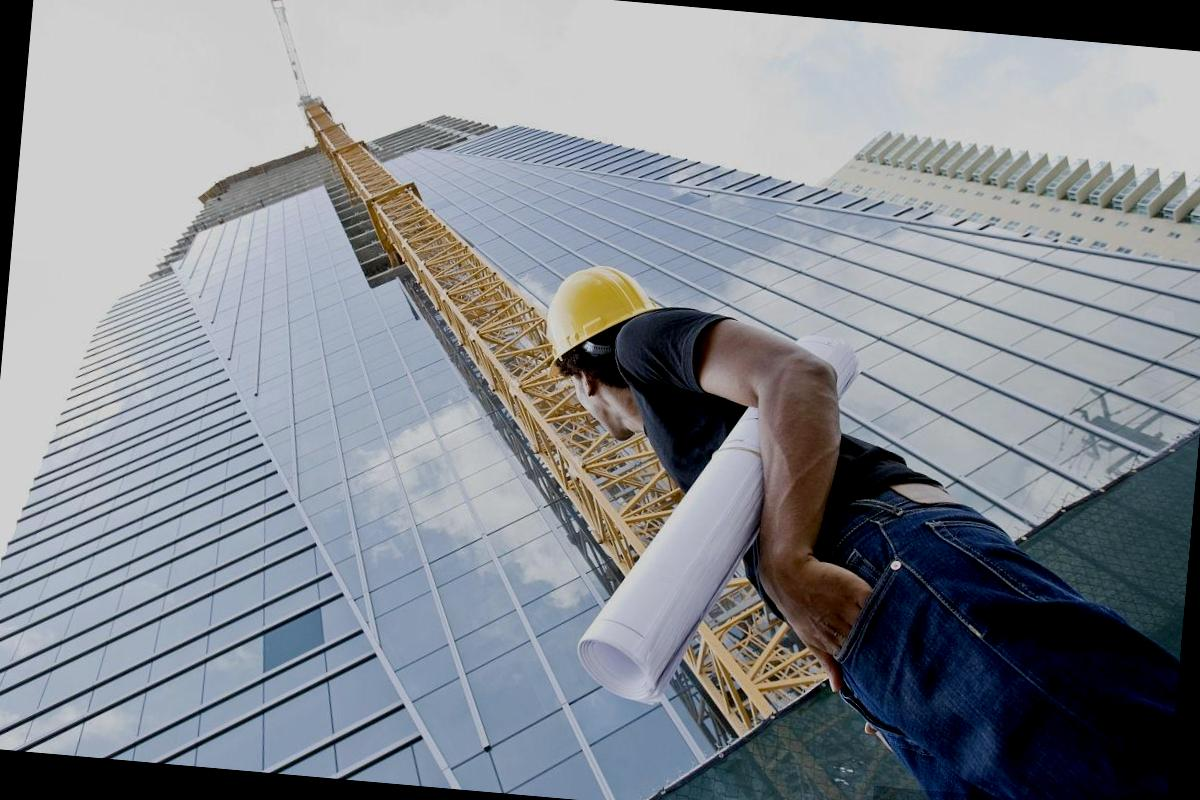helmet: (532, 258, 672, 392)
person: (499, 249, 1200, 800)
